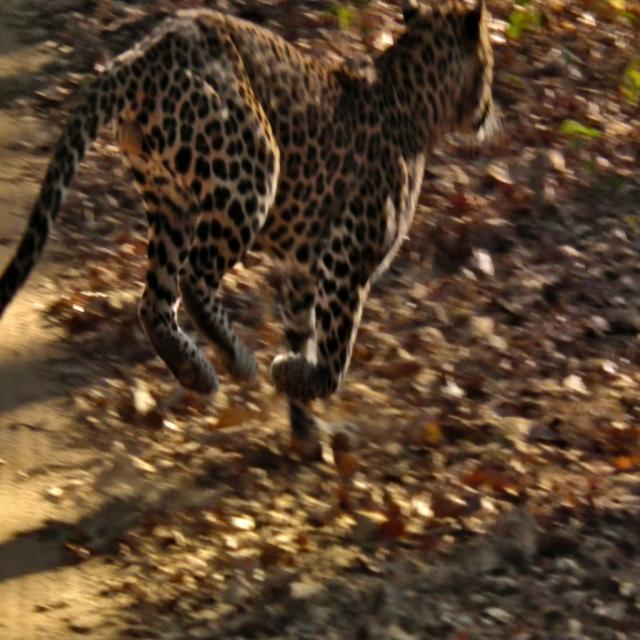Leopard: (0, 0, 497, 444)
